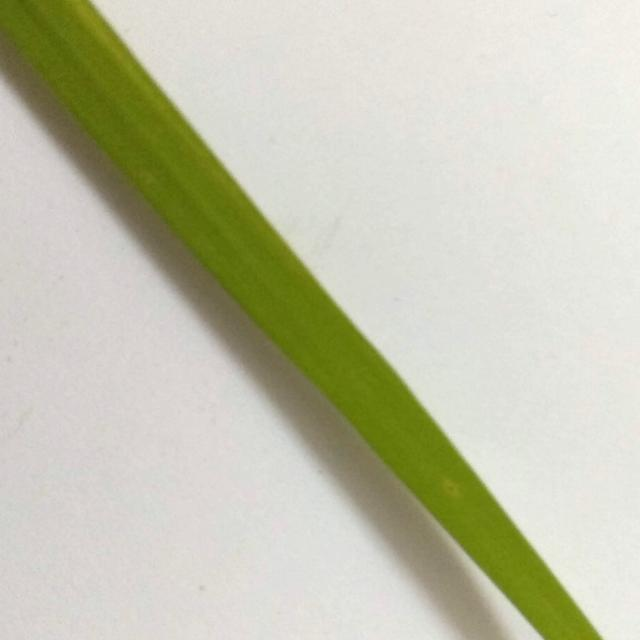Rice_Healthy: (0, 0, 602, 640)
